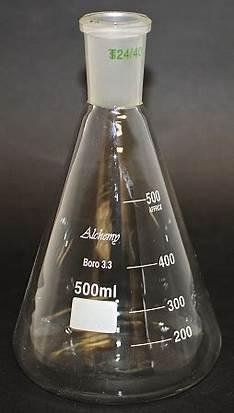Titrarion: (16, 4, 223, 401)
